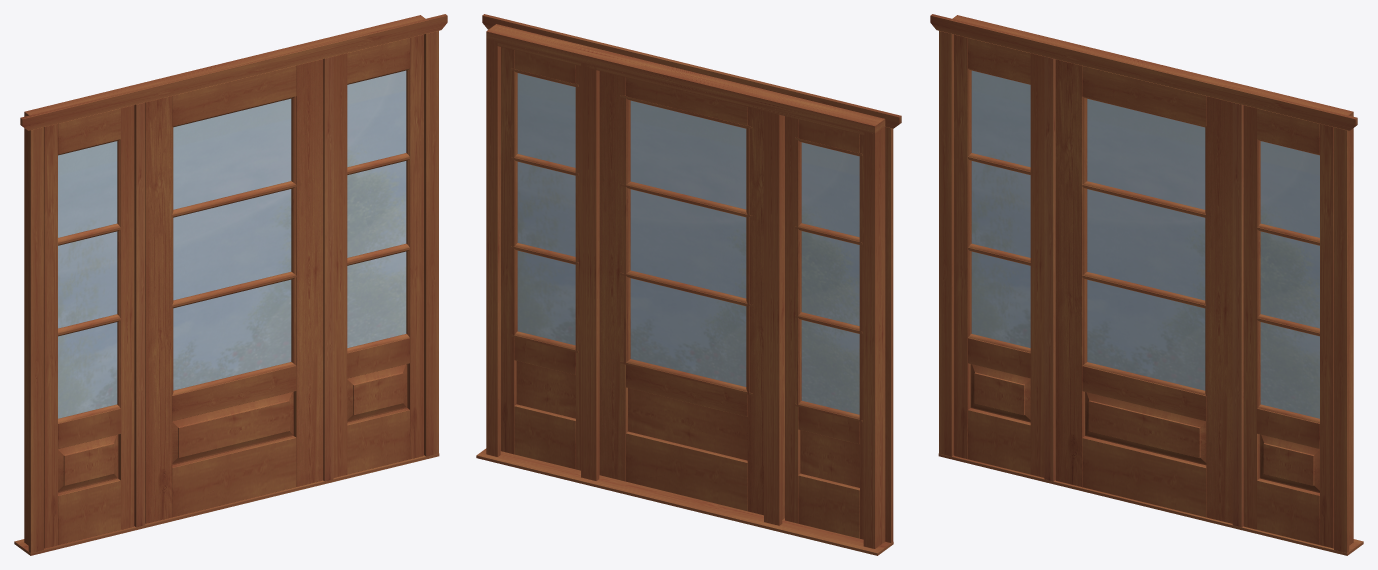
3 renders of one model, left to right at view 1: azimuth 30°, elevation 25°; view 2: azimuth 150°, elevation 25°; view 3: azimuth 330°, elevation 25°, orthographic.
Parts seen in each view (by area): view 1: glass, glass001, glass002, door_right, door_left, trim_left001, trim_top, door_bottom, trim_left002, door_right002, door_left002, door_right001 (+27 smaller); view 2: glass, glass002, glass001, door_right, box_left001, box_top, door_left, door_bottom, door_left002, panel_extruded001, door_right001, threshold (+37 smaller); view 3: glass, glass002, glass001, door_left, door_right, trim_left002, trim_top, door_bottom, trim_left001, door_right001, door_right002, door_left001 (+28 smaller).
Part boxes in pixels (x1=…): glass: x1=173, y1=98, x2=291, y2=390; glass001: x1=58, y1=141, x2=117, y2=418; glass002: x1=347, y1=70, x2=406, y2=347; door_right: x1=293, y1=59, x2=323, y2=486; door_left: x1=145, y1=96, x2=172, y2=523; trim_left001: x1=28, y1=127, x2=43, y2=552; trim_top: x1=20, y1=14, x2=447, y2=130; door_bottom: x1=172, y1=436, x2=296, y2=517; trim_left002: x1=424, y1=31, x2=438, y2=456; door_right002: x1=333, y1=53, x2=347, y2=477; door_left002: x1=407, y1=34, x2=423, y2=459; door_right001: x1=118, y1=105, x2=134, y2=529; glass: x1=630, y1=100, x2=746, y2=386; glass002: x1=517, y1=73, x2=575, y2=345; glass001: x1=801, y1=142, x2=859, y2=414; door_right: x1=599, y1=71, x2=627, y2=481; box_left001: x1=867, y1=127, x2=885, y2=548; box_top: x1=486, y1=24, x2=885, y2=133; door_left: x1=747, y1=107, x2=763, y2=515; door_bottom: x1=626, y1=431, x2=747, y2=511; door_left002: x1=501, y1=47, x2=516, y2=454; panel_extruded001: x1=628, y1=388, x2=747, y2=460; door_right001: x1=785, y1=116, x2=800, y2=523; threshold: x1=476, y1=448, x2=893, y2=555; glass: x1=1087, y1=99, x2=1205, y2=390; glass002: x1=1260, y1=141, x2=1319, y2=418; glass001: x1=971, y1=70, x2=1030, y2=347; door_left: x1=1055, y1=59, x2=1084, y2=486; door_right: x1=1206, y1=96, x2=1232, y2=523; trim_left002: x1=1334, y1=127, x2=1349, y2=552; trim_top: x1=930, y1=14, x2=1357, y2=130; door_bottom: x1=1082, y1=436, x2=1206, y2=517; trim_left001: x1=939, y1=31, x2=953, y2=456; door_right001: x1=1030, y1=53, x2=1044, y2=477; door_right002: x1=1243, y1=105, x2=1259, y2=529; door_left001: x1=954, y1=34, x2=970, y2=459.
Size of the model in its own units: 83.18 by 82 by 5.5.
8 materials, 8 textured.
